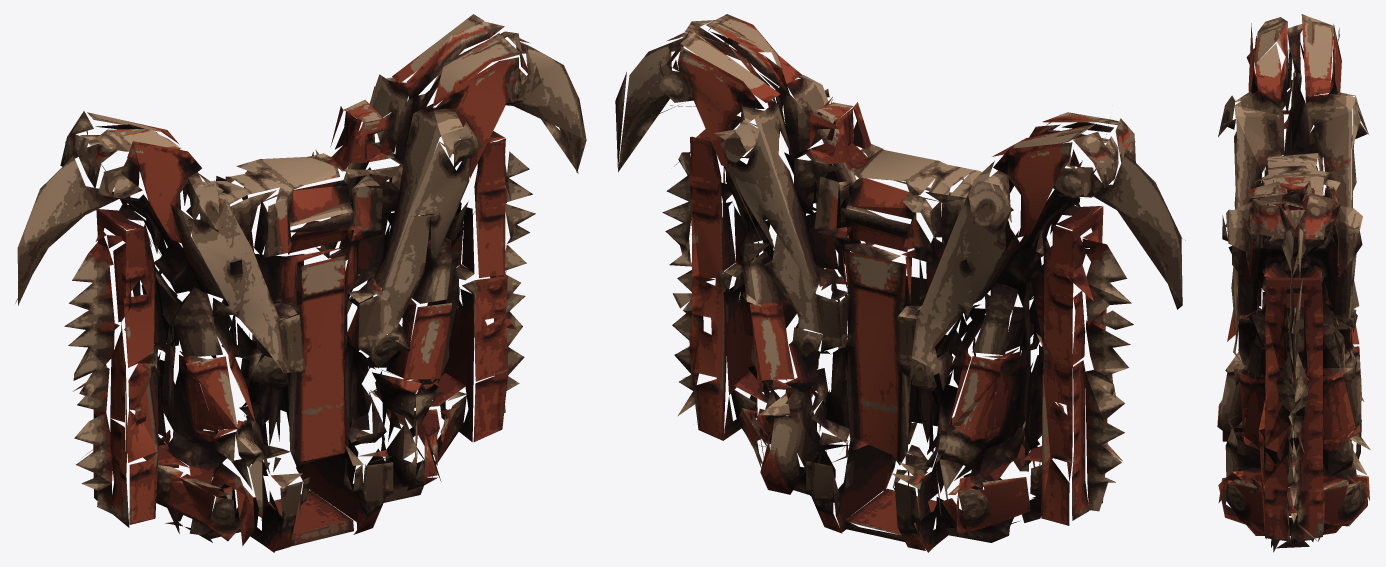
File: mo_hooks.glb
3 views of the same model, side by side, from view 1: azimuth 30°, elevation 25°; view 2: azimuth 150°, elevation 25°; view 3: azimuth 270°, elevation 25° (orthographic). The views are drawn at different scales.
Visible parts, largest first — view 1: mo_hooks; view 2: mo_hooks; view 3: mo_hooks.
Part boxes in pixels (x1=…): mo_hooks: x1=15, y1=14, x2=586, y2=552; mo_hooks: x1=615, y1=14, x2=1185, y2=552; mo_hooks: x1=1217, y1=14, x2=1370, y2=552.
Bounding box in the file's own units: 0.2 × 0.1529 × 0.0521.
Materials: 1 (1 with a texture image).
